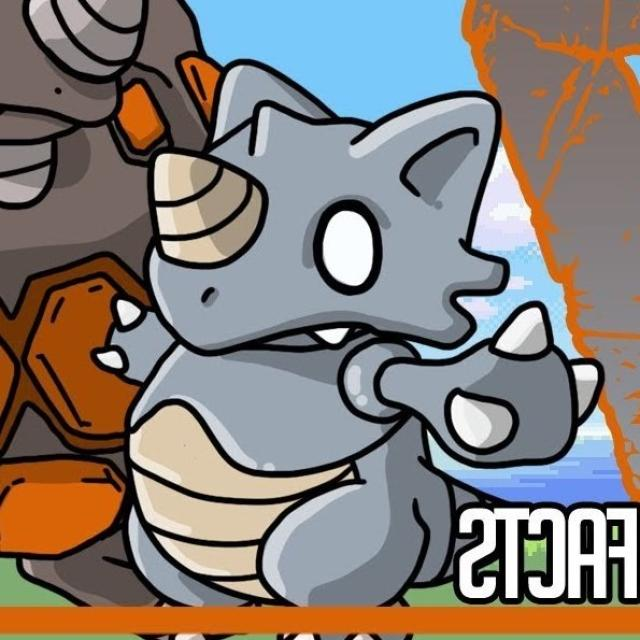Rhydon: (99, 57, 601, 597)
